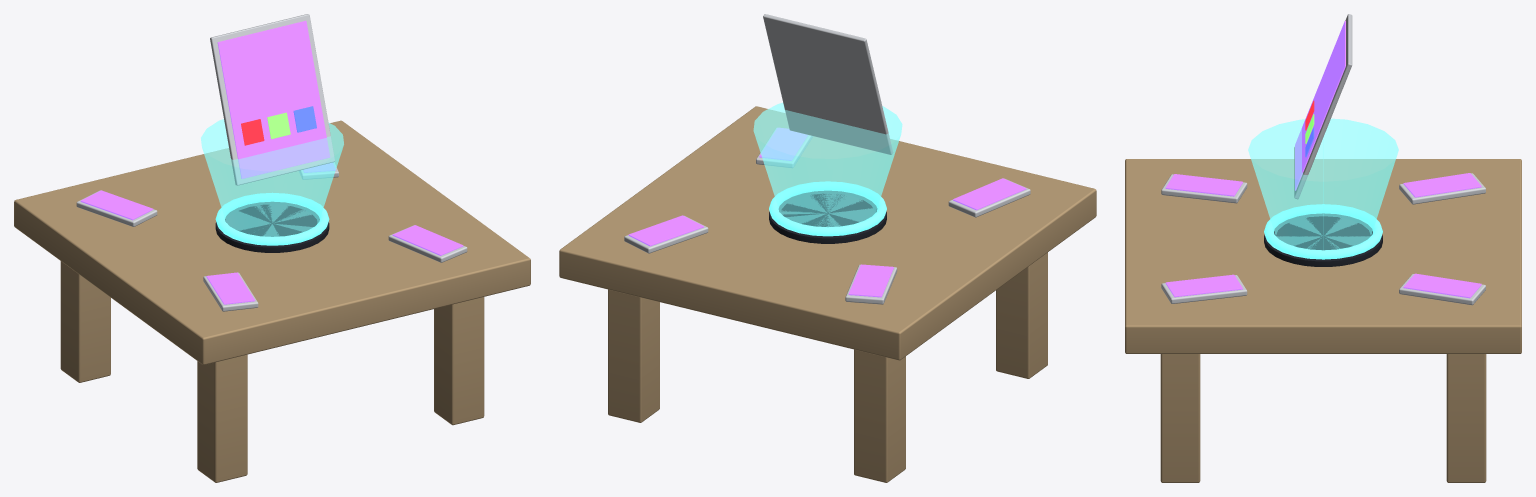
Rendered from holo-product-table.glb.
3 views of the same model, side by side, from view 1: azimuth 30°, elevation 25°; view 2: azimuth 150°, elevation 25°; view 3: azimuth 270°, elevation 25° (orthographic). The views are drawn at different scales.
Visible parts, largest first — view 1: holo-product-table-solid, float-1-rotor-glow, holo-product-table-holo, holo-product-table-glow (×2), float-1-rotor-metal, holo-product-table-metal; view 2: holo-product-table-solid, holo-product-table-holo, float-1-rotor-metal, holo-product-table-glow (×2), holo-product-table-metal; view 3: holo-product-table-solid, holo-product-table-holo, holo-product-table-glow (×2), holo-product-table-metal, float-1-rotor-glow, float-1-rotor-metal.
Boxes of the visible parts, box(x1,y1,x2,y2) form: holo-product-table-solid: box(14, 120, 530, 482); float-1-rotor-glow: box(217, 20, 329, 178); holo-product-table-holo: box(201, 119, 343, 236); holo-product-table-glow (×2): box(80, 163, 463, 304); float-1-rotor-metal: box(210, 14, 334, 185); holo-product-table-metal: box(76, 162, 467, 311); holo-product-table-solid: box(559, 106, 1096, 482); holo-product-table-holo: box(753, 103, 902, 226); float-1-rotor-metal: box(763, 14, 892, 154); holo-product-table-glow (×2): box(628, 128, 1026, 297); holo-product-table-metal: box(624, 128, 1030, 304); holo-product-table-solid: box(1125, 159, 1521, 482); holo-product-table-holo: box(1248, 118, 1398, 250); holo-product-table-glow (×2): box(1165, 173, 1481, 298); holo-product-table-metal: box(1161, 173, 1485, 305); float-1-rotor-glow: box(1295, 20, 1345, 190); float-1-rotor-metal: box(1294, 14, 1352, 199).
Size of the model in its own units: 0.7995 by 0.836 by 0.7995.
